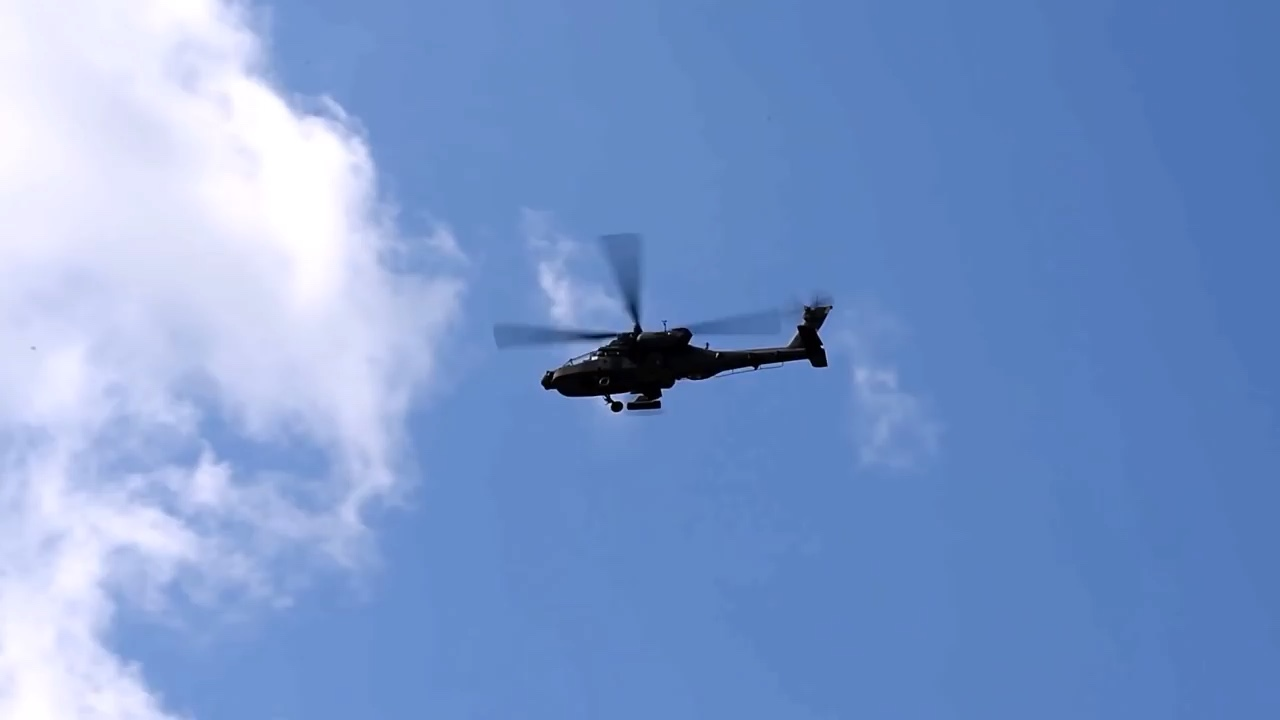ah64: (491, 230, 837, 417)
